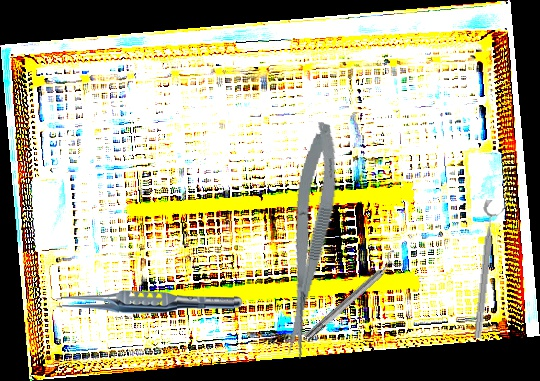Fixation Ring: (299, 249, 406, 345), (469, 199, 508, 340)
Micro Scissor: (270, 119, 347, 361)
Tissue Forceps: (52, 288, 244, 316)
